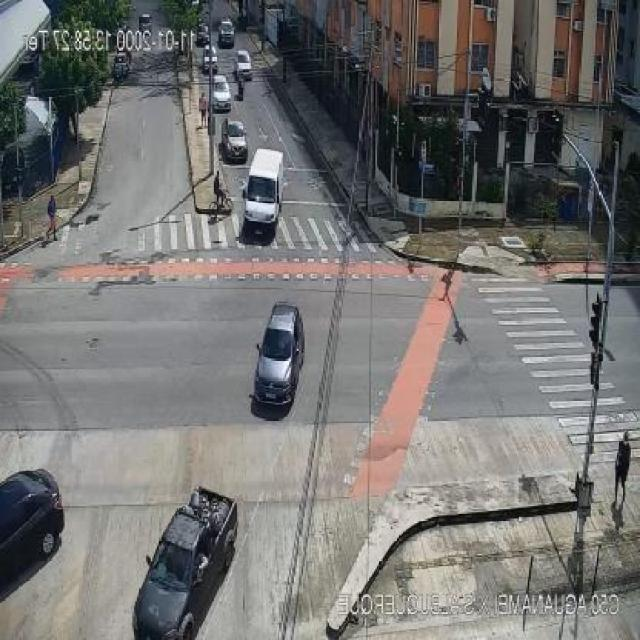Car: (1, 469, 63, 604), (251, 301, 304, 414), (220, 119, 248, 161), (211, 75, 232, 111), (235, 50, 253, 80), (202, 44, 218, 74), (113, 53, 130, 81), (218, 20, 235, 48), (196, 23, 210, 46), (138, 14, 152, 34)
Cycle: (209, 190, 231, 218)
Truck: (132, 487, 235, 638)
Van: (241, 149, 284, 232)
